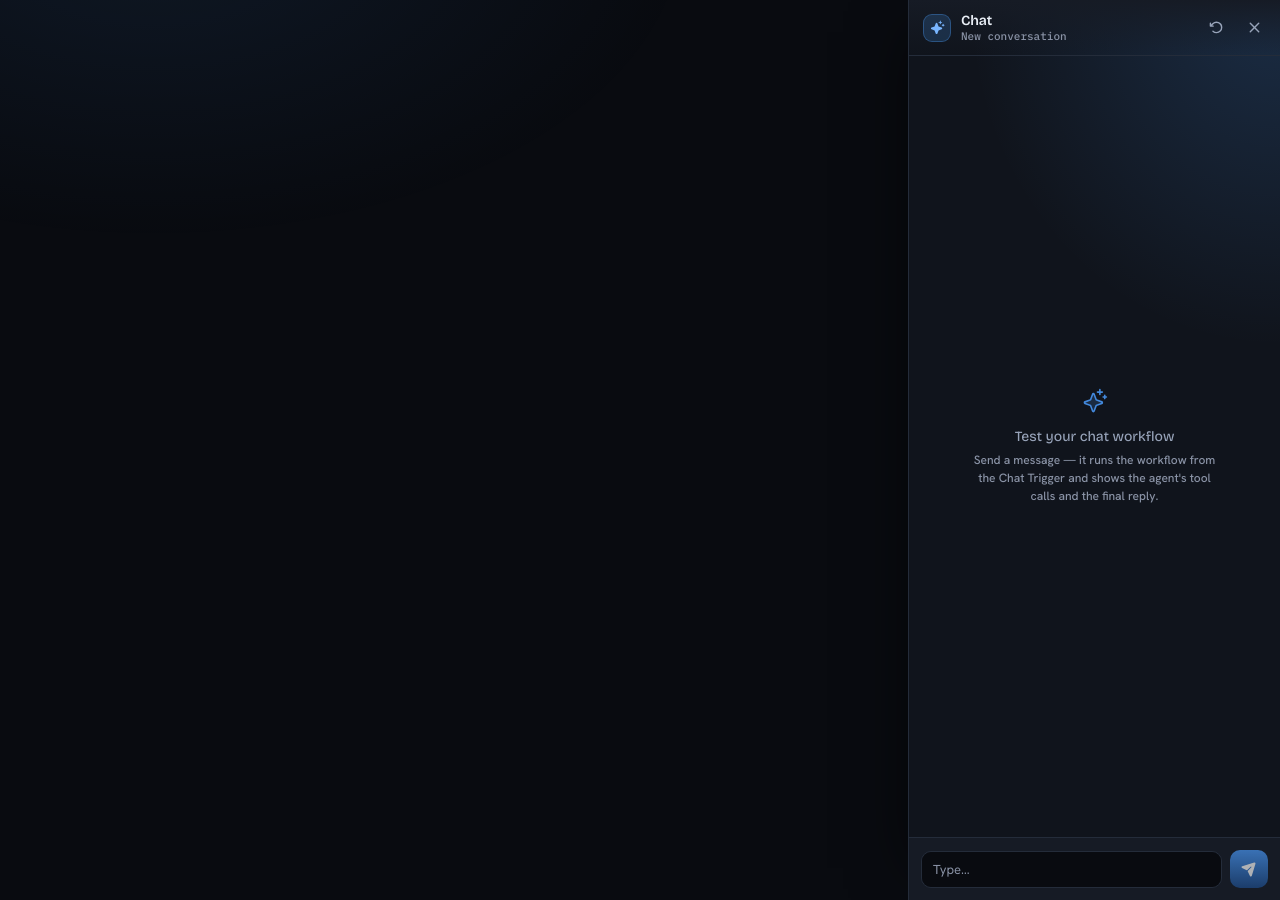
Test case: ChatPanel › sends a message and renders user + bot bubbles
This screenshot has width=1280, height=900.
Type "hello" into the text box with placeholder "Type…" at (1072,870), box [921,851,1222,888]
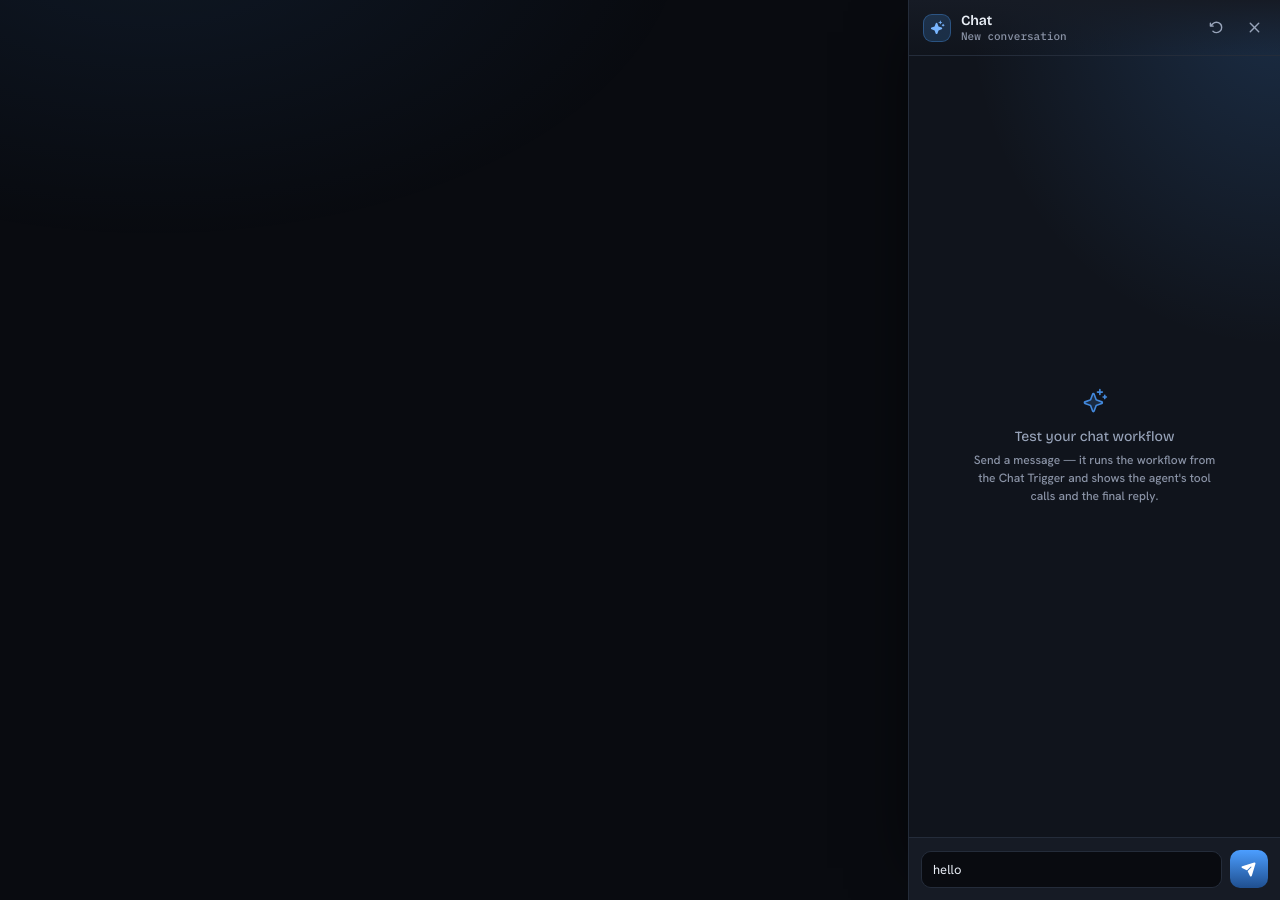
Click the button named "send" at (1249,869), box [1230,850,1268,888]
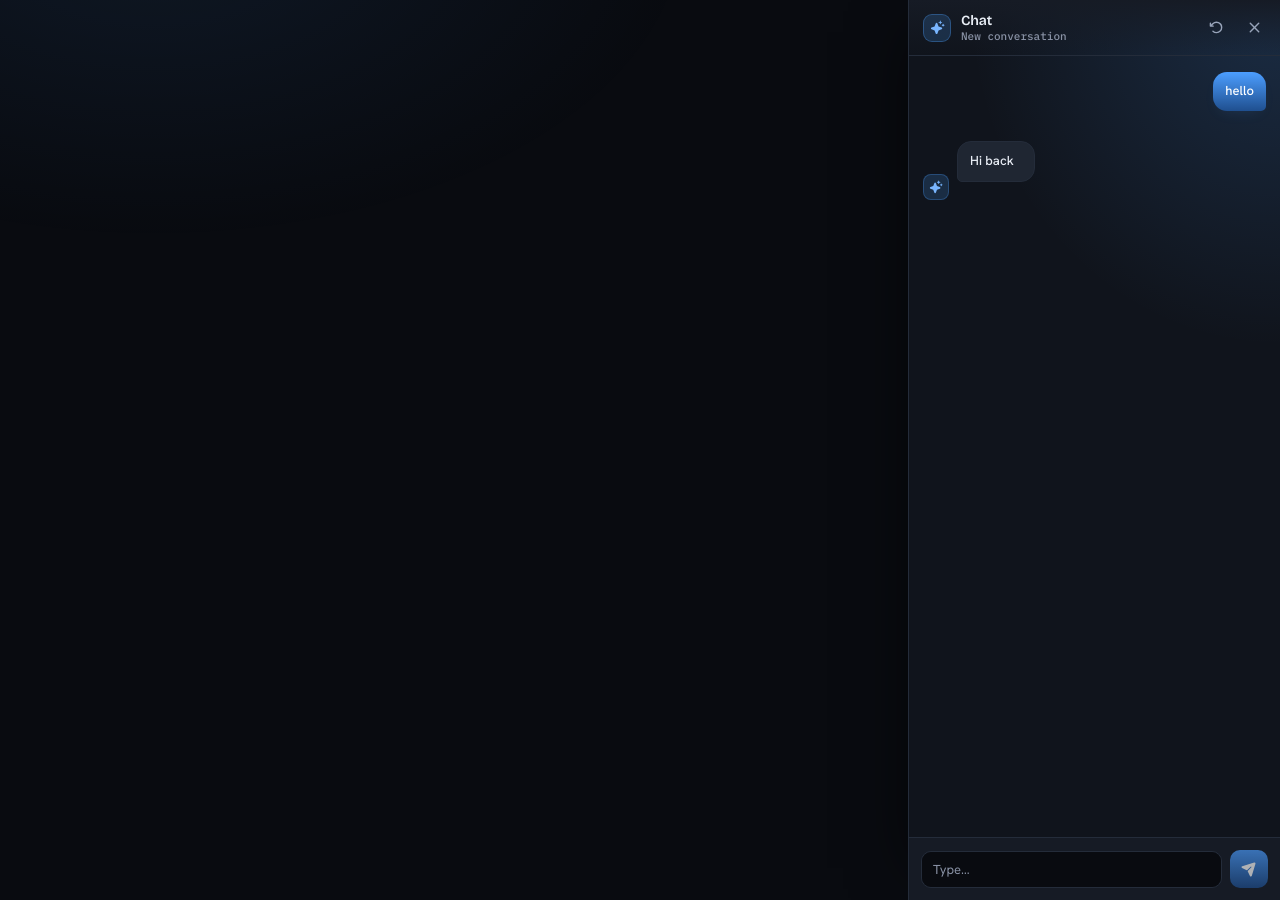
Check: the text "hello" is shown, box [1225,81,1254,102]
Check: the text "Hi back" is shown, box [970,152,1014,169]
